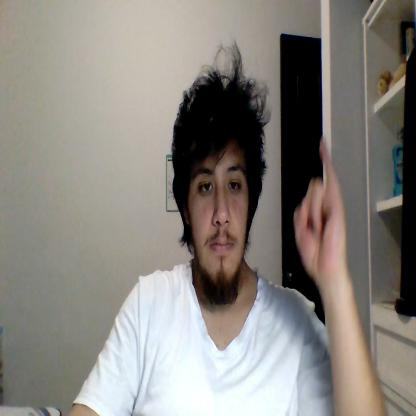I: (294, 138, 345, 277)
